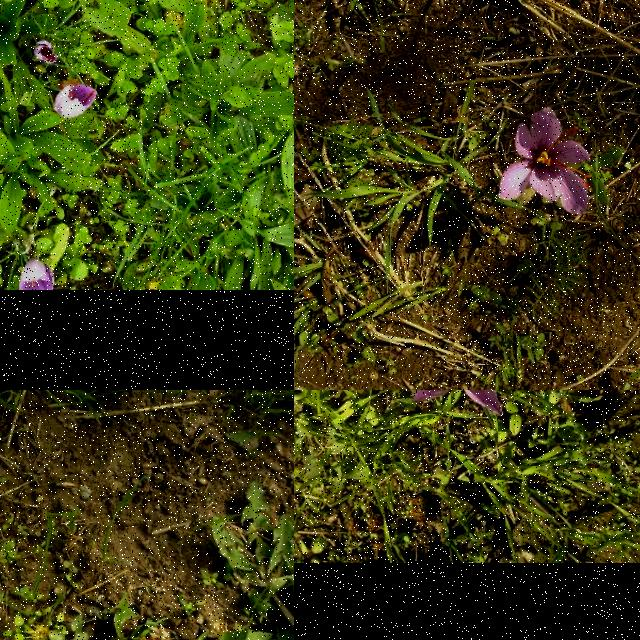flower: (498, 108, 592, 216), (377, 390, 549, 416), (54, 84, 98, 118), (18, 258, 54, 290), (35, 41, 59, 63)
